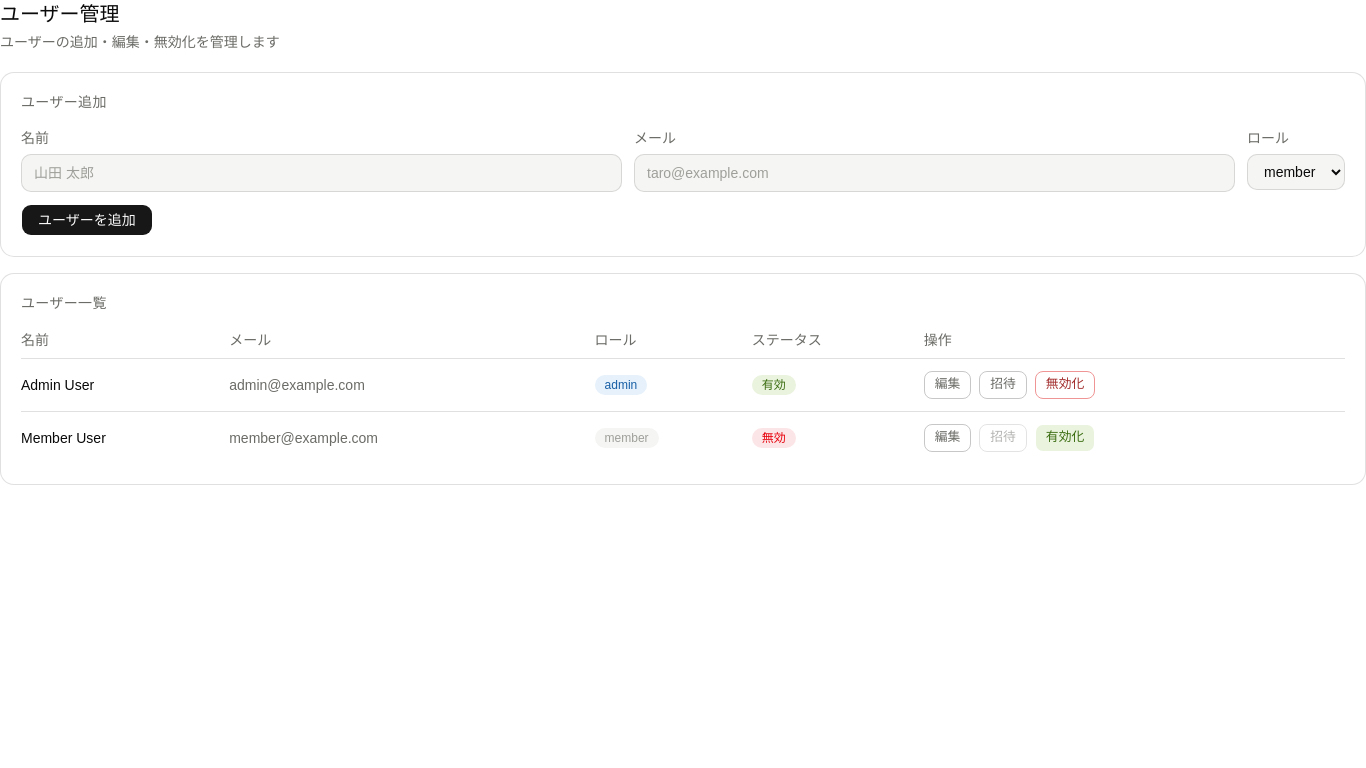
Test: AdminUsersPage › closes edit modal when clicking cancel
This screenshot has width=1366, height=768.
What coordinates should you click on to do the following:
click the button "編集" in the row of "Admin User"
I would click on:
 (948, 384)
Its box is [924,370,971,398].
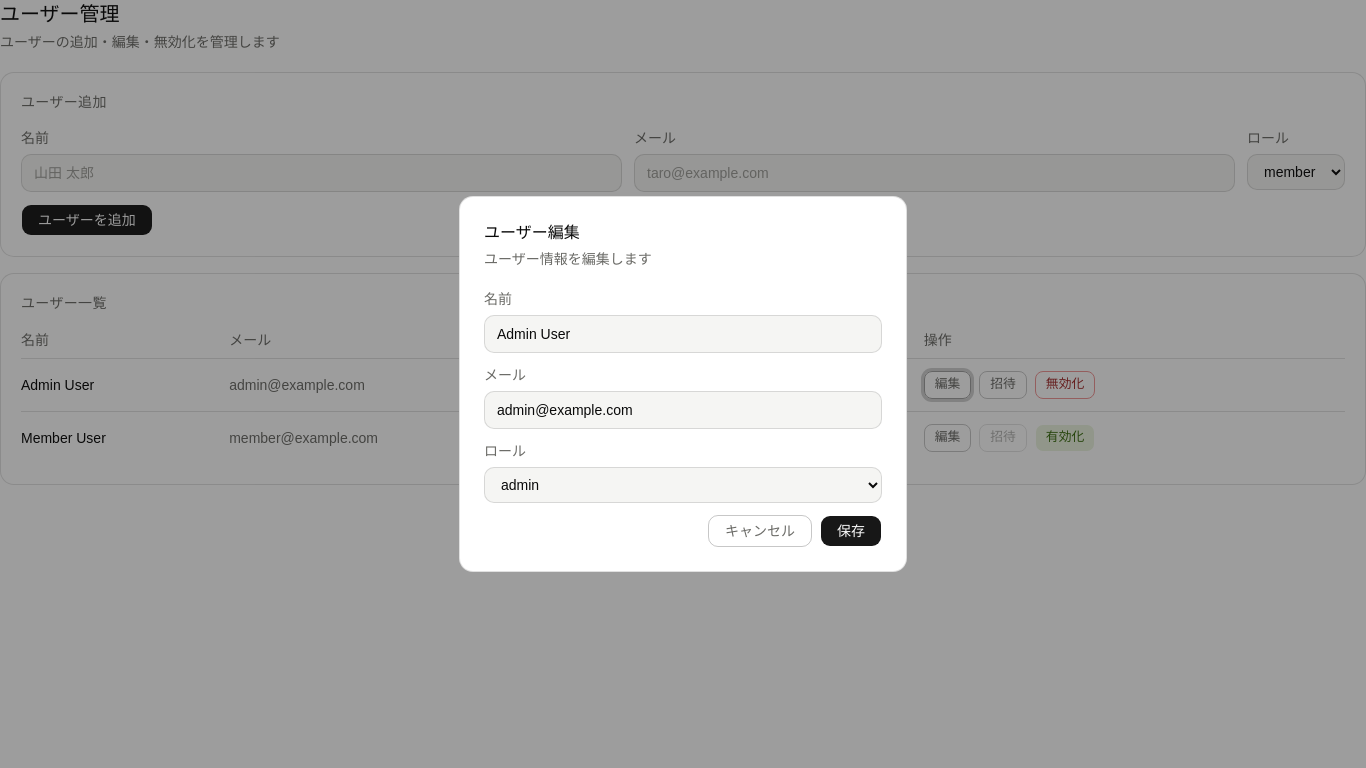
Result: the dialog "ユーザー編集" is shown
What coordinates should you click on to do the following:
click the button "キャンセル"
I would click on:
 (760, 531)
Its box is [708,515,812,547].
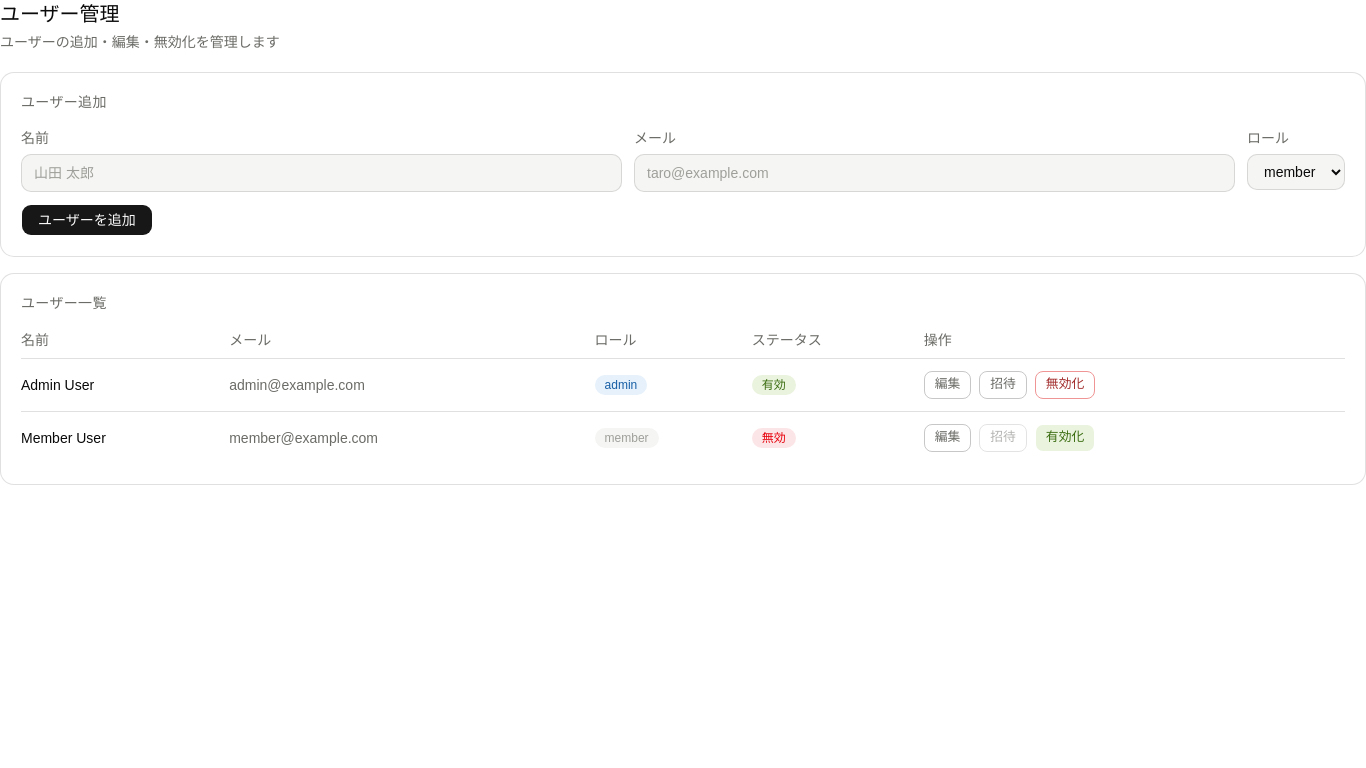
Result: the heading "ユーザー編集" is gone
